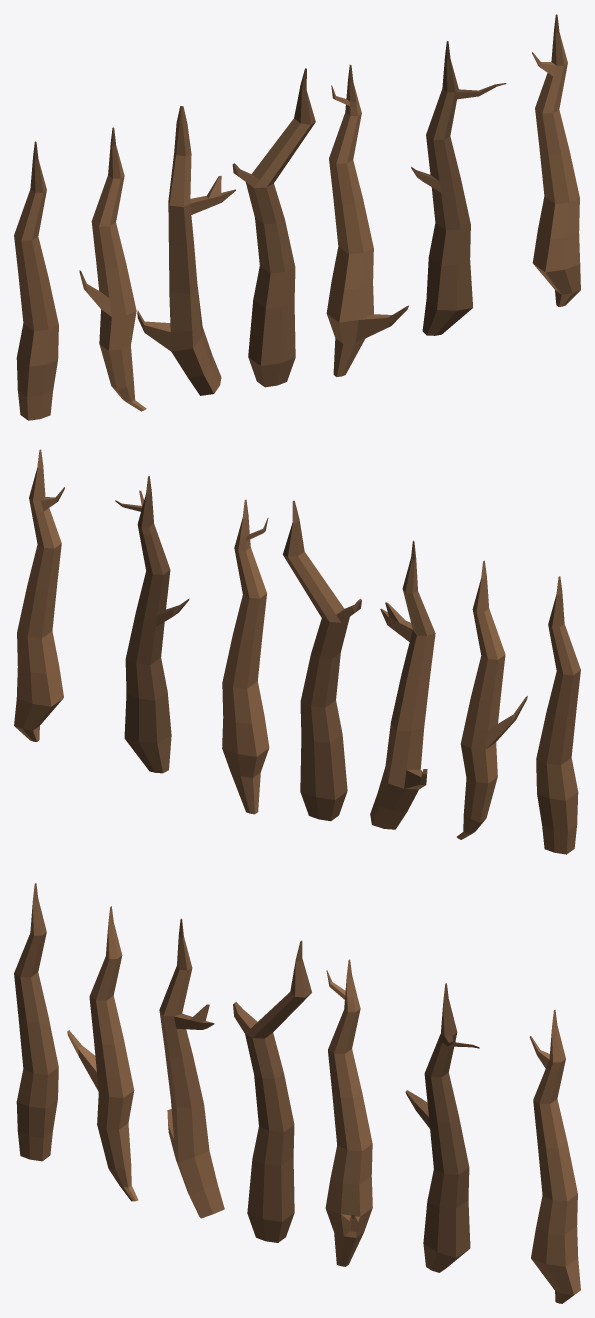
Rendered from Branch.fbx.
The picture shows the model from 3 angles, top to bottom: view 1: azimuth 30°, elevation 25°; view 2: azimuth 150°, elevation 25°; view 3: azimuth 330°, elevation 25°; orthographic projection.
Visible parts, largest first — view 1: Cube.003, Cube.002, Cube.001, Cube.004, Cube, Cube.006, Cube.005; view 2: Cube.003, Cube.001, Cube.002, Cube.004, Cube, Cube.006, Cube.005; view 3: Cube.003, Cube.001, Cube.002, Cube, Cube.004, Cube.005, Cube.006.
Part boxes in pixels (x1,y1,x2,y2): Cube.003: (232, 68, 315, 387); Cube.002: (326, 64, 408, 376); Cube.001: (411, 41, 506, 335); Cube.004: (137, 106, 235, 395); Cube: (532, 14, 580, 306); Cube.006: (14, 141, 58, 420); Cube.005: (79, 127, 146, 411); Cube.003: (283, 500, 361, 821); Cube.001: (115, 476, 189, 773); Cube.002: (222, 499, 269, 814); Cube.004: (370, 540, 435, 829); Cube: (14, 449, 64, 741); Cube.006: (536, 576, 580, 854); Cube.005: (457, 560, 527, 839); Cube.003: (233, 940, 311, 1242); Cube.001: (405, 983, 479, 1272); Cube.002: (325, 959, 372, 1266); Cube: (529, 1009, 580, 1303); Cube.004: (159, 918, 224, 1218); Cube.005: (67, 906, 138, 1201); Cube.006: (14, 883, 58, 1161).
Size of the model in its own units: 591 by 321 by 80.91.
